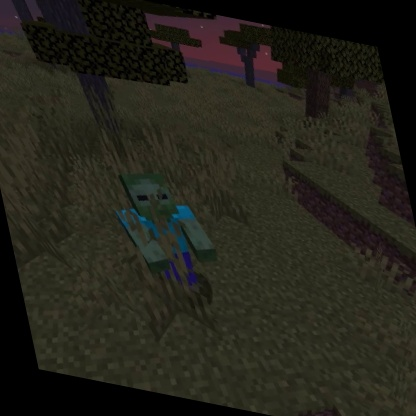zombie: (99, 158, 232, 310)
